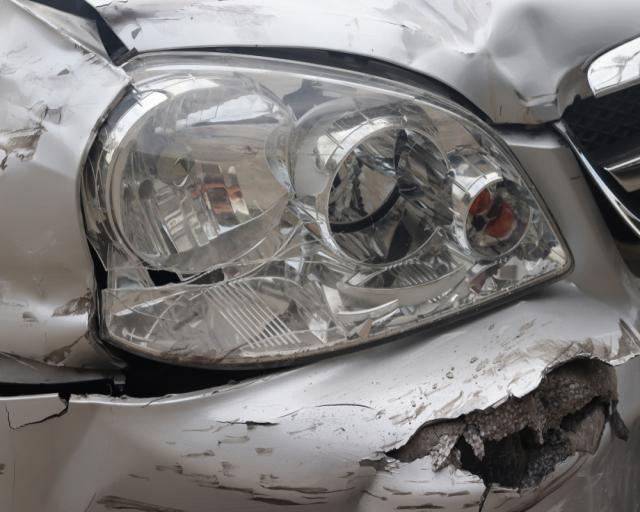crack: (381, 347, 640, 493), (3, 394, 72, 429)
dent: (364, 0, 569, 100), (1, 2, 124, 150), (101, 0, 266, 48), (1, 253, 86, 324)
lamp broken: (83, 55, 569, 377)
scratch: (95, 395, 498, 512)
